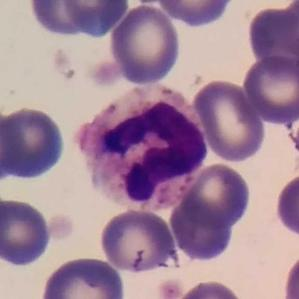Neutrophil: (67, 81, 213, 217)
RBC: (190, 77, 268, 164), (166, 179, 241, 266), (108, 3, 182, 86), (174, 161, 254, 236), (97, 207, 181, 276), (0, 103, 69, 186), (37, 252, 128, 299), (240, 53, 299, 125), (29, 0, 132, 40), (0, 194, 54, 270), (244, 5, 298, 72), (154, 0, 240, 31), (273, 170, 299, 242), (0, 101, 21, 185), (173, 277, 246, 299), (274, 0, 299, 57), (280, 249, 299, 299)
